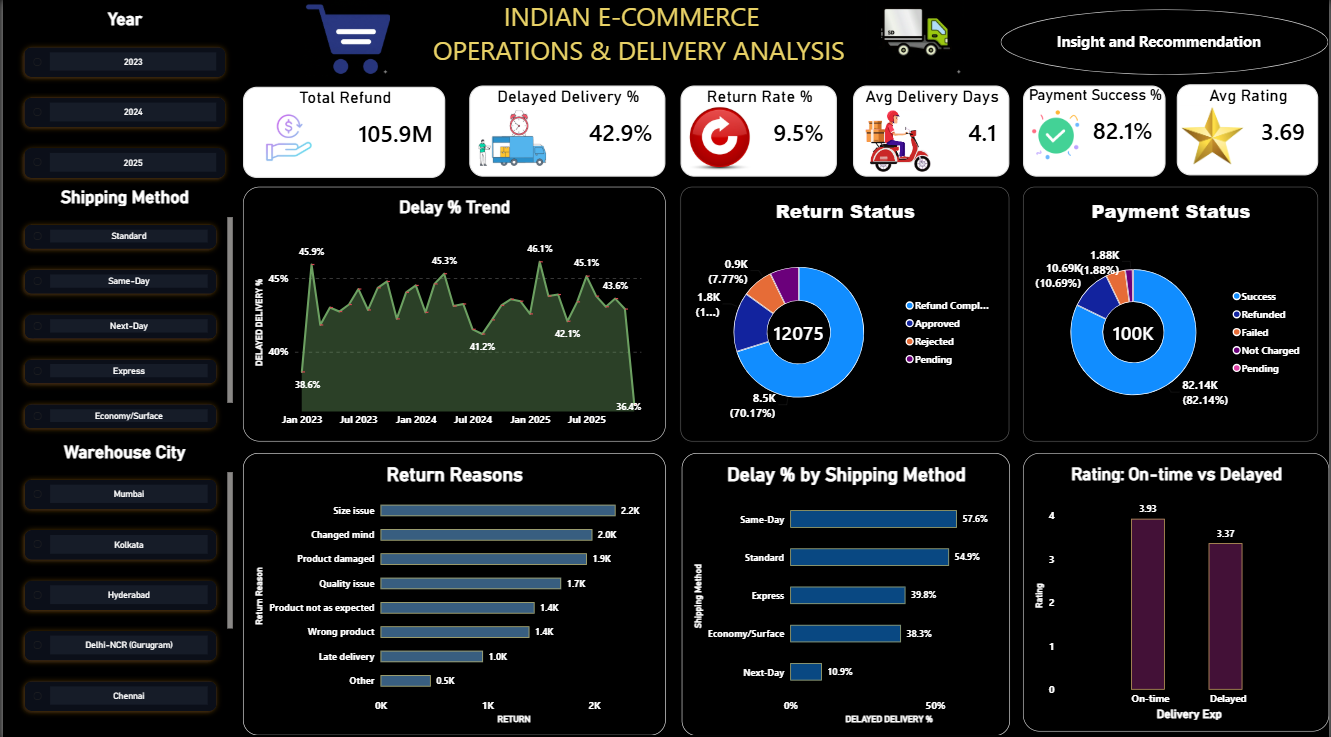

The dashboard page shown, as its layout file describes it:
{"tool":"powerbi","page":{"name":"Operation & Delivery Analysis","canvas":[1920,1080],"ordinal":3},"visuals":[{"type":"cardVisual","title":"Delayed Delivery %","fields":{"Data":["shipments_cleaned.DELAYED DELIVERY %"]},"box":[675,126.7,284.1,132.1],"z":0},{"type":"cardVisual","title":"Avg Delivery Days","fields":{"Data":["shipments_cleaned.AVG DELIVERY DAY"]},"box":[1230.6,126.7,226.4,131.7],"z":1000},{"type":"cardVisual","title":"Return Rate %","fields":{"Data":["returns_cleaned.return rate"]},"box":[980.8,126.7,226.4,131.7],"z":2000},{"type":"cardVisual","title":"Total Refund","fields":{"Data":["shipments_cleaned.Total Refund"]},"box":[347.5,128.5,293.2,132.1],"z":3000},{"type":"cardVisual","title":"Payment Success %","fields":{"Data":["shipments_cleaned.Payment Success %"]},"box":[1476.7,126.7,206.3,132.1],"z":4000},{"type":"cardVisual","title":"Avg Rating","fields":{"Data":["shipments_cleaned.Avg Rating"]},"box":[1699.3,124.9,204.5,132.1],"z":5000},{"type":"textbox","box":[621.9,0,621.9,111.7],"z":6000},{"type":"advancedSlicerVisual","title":"Year","fields":{"Values":["orders_cleaned.order_year"]},"box":[19.9,16.3,313.1,257],"z":7000},{"type":"advancedSlicerVisual","title":"Shipping Method","fields":{"Values":["shipments_cleaned.shipping_method"]},"box":[19.9,273.3,313.1,361.9],"z":8000},{"type":"advancedSlicerVisual","title":"Warehouse City","fields":{"Values":["shipments_cleaned.warehouse_city"]},"box":[19.9,642.4,313.1,405.4],"z":9000},{"type":"clusteredBarChart","title":"Delay % by Shipping Method","fields":{"Category":["shipments_cleaned.shipping_method"],"Y":["shipments_cleaned.DELAYED DELIVERY %"]},"box":[981.8,658.7,475.5,409.6],"z":10000},{"type":"lineChart","title":"Delay % Trend","fields":{"Y":["shipments_cleaned.DELAYED DELIVERY %"],"Category":["orders_cleaned.order_date.Variation.Date Hierarchy.Year","orders_cleaned.order_date.Variation.Date Hierarchy.Month"]},"box":[347.5,273.3,611.7,369.2],"z":11000},{"type":"columnChart","title":"Rating: On-time vs Delayed","fields":{"Category":["customer_reviews_cleaned.Delivery Experience"],"Y":["shipments_cleaned.Avg Rating"]},"box":[1476.7,658.7,443.4,403.6],"z":12000},{"type":"clusteredBarChart","title":"Return Reasons","fields":{"Category":["returns_cleaned.return_reason"],"Y":["shipments_cleaned.RETURN RECORD"]},"box":[347.5,658.7,611.7,409],"z":13000},{"type":"donutChart","title":"Payment Status","fields":{"Category":["payments_cleaned.payment_status"],"Y":["CountNonNull(payments_cleaned.payment_id)"]},"box":[1476.7,273.3,427.1,369.2],"z":14000},{"type":"donutChart","title":"Return Status","fields":{"Category":["returns_cleaned.return_status"],"Y":["CountNonNull(returns_cleaned.return_reason)"]},"box":[980.8,273.3,475.9,369.2],"z":15000},{"type":"image","box":[347.9,0,292.3,113.2],"z":15001},{"type":"image","box":[1230.7,0,178.7,113.6],"z":15002},{"type":"image","box":[347.5,162.9,132.1,79.6],"z":15003},{"type":"image","box":[675,162.9,124.9,79.6],"z":15004},{"type":"image","box":[980.8,153.8,114,97.7],"z":15005},{"type":"image","box":[1230.6,162.9,130.3,88.7],"z":15006},{"type":"image","box":[1476.7,155.6,95.9,86.9],"z":15007},{"type":"image","box":[1699.3,155.6,103.2,86.9],"z":15008},{"type":"actionButton","box":[1444.9,16.8,474.8,95],"z":15016}]}

Visuals, with their boxes in screenshot pixels (x1, y1, x2, y2), scaled from the page's 1920x1080 canvas onto the 1331x737 screenshot:
"Delayed Delivery %" cardVisual: <region>468, 86, 665, 177</region>
"Avg Delivery Days" cardVisual: <region>853, 86, 1010, 176</region>
"Return Rate %" cardVisual: <region>680, 86, 837, 176</region>
"Total Refund" cardVisual: <region>241, 88, 444, 178</region>
"Payment Success %" cardVisual: <region>1024, 86, 1167, 177</region>
"Avg Rating" cardVisual: <region>1178, 85, 1320, 175</region>
textbox: <region>431, 0, 862, 76</region>
"Year" advancedSlicerVisual: <region>14, 11, 231, 187</region>
"Shipping Method" advancedSlicerVisual: <region>14, 187, 231, 433</region>
"Warehouse City" advancedSlicerVisual: <region>14, 438, 231, 715</region>
"Delay % by Shipping Method" clusteredBarChart: <region>681, 450, 1010, 729</region>
"Delay % Trend" lineChart: <region>241, 187, 665, 438</region>
"Rating: On-time vs Delayed" columnChart: <region>1024, 450, 1330, 725</region>
"Return Reasons" clusteredBarChart: <region>241, 450, 665, 729</region>
"Payment Status" donutChart: <region>1024, 187, 1320, 438</region>
"Return Status" donutChart: <region>680, 187, 1010, 438</region>
image: <region>241, 0, 444, 77</region>
image: <region>853, 0, 977, 78</region>
image: <region>241, 111, 332, 165</region>
image: <region>468, 111, 555, 165</region>
image: <region>680, 105, 759, 172</region>
image: <region>853, 111, 943, 172</region>
image: <region>1024, 106, 1090, 165</region>
image: <region>1178, 106, 1250, 165</region>
actionButton: <region>1002, 11, 1330, 76</region>
